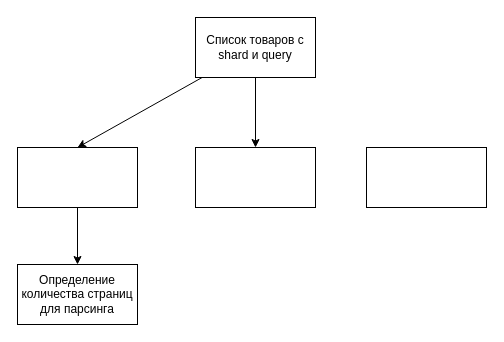
Some shapes in this 504 by 342 pixel diagram are drawn without their labels. The shapes that lost their labels are listed below. From the top down, each one's box as (x1, y1, x2, y2) in pixels, then its label:
(16, 146, 138, 208): Создание ссылок для получения количества товаров в подкатегории
(194, 146, 316, 208): Создание ссылок для получения первых 100 товаров в подкатегории
